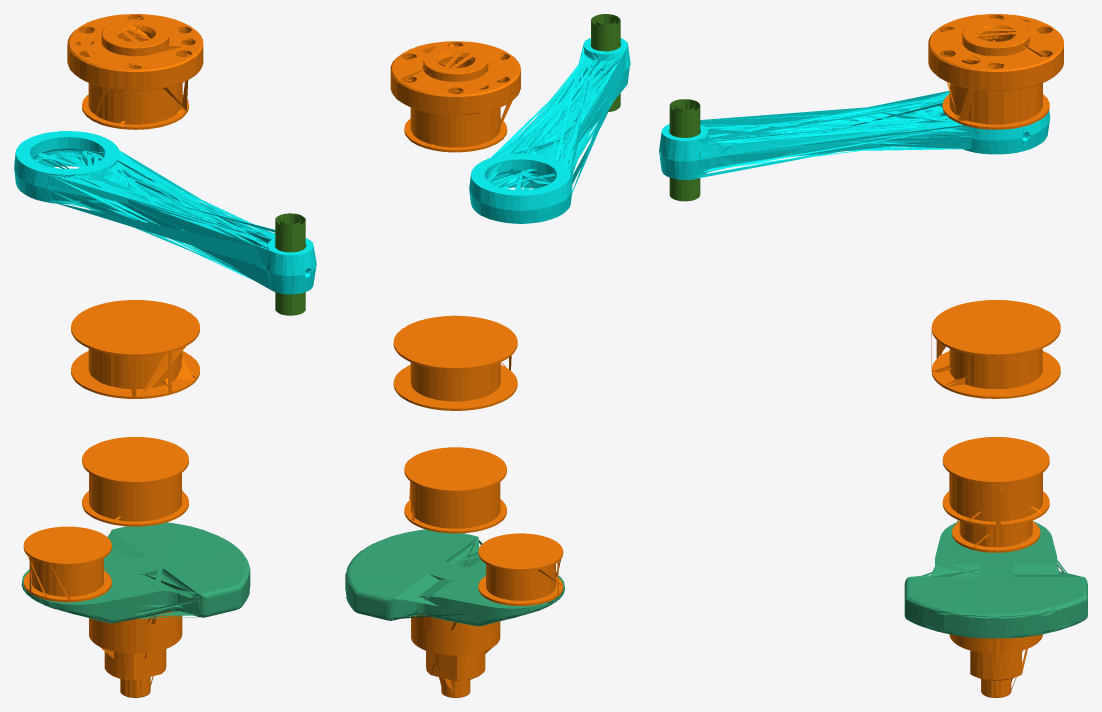
Rendered from sample_jt_2.obj.
The picture shows the model from 3 angles, left to right: view 1: azimuth 30°, elevation 25°; view 2: azimuth 150°, elevation 25°; view 3: azimuth 270°, elevation 25°; orthographic projection. The views are drawn at different scales.
Parts seen in each view (by area): view 1: conn_rod_new, lever, end_2, cyl_3, cyl_2, cyl_1, end_1, rod-axis; view 2: conn_rod_new, lever, end_2, cyl_3, cyl_2, cyl_1, end_1, rod-axis; view 3: conn_rod_new, lever, end_2, cyl_3, cyl_2, end_1, cyl_1, rod-axis.
Boxes of the visible parts, x1,y1,x2,y2 form: conn_rod_new: [14, 131, 316, 294]; lever: [21, 522, 250, 623]; end_2: [67, 14, 203, 129]; cyl_3: [71, 300, 199, 398]; cyl_2: [82, 437, 188, 526]; cyl_1: [23, 526, 111, 602]; end_1: [89, 611, 182, 697]; rod-axis: [275, 213, 305, 315]; conn_rod_new: [469, 38, 630, 223]; lever: [345, 529, 564, 626]; end_2: [390, 41, 520, 152]; cyl_3: [393, 315, 517, 410]; cyl_2: [404, 447, 506, 533]; cyl_1: [478, 533, 563, 606]; end_1: [411, 615, 500, 697]; rod-axis: [591, 14, 620, 111]; conn_rod_new: [659, 91, 1050, 179]; lever: [904, 521, 1087, 638]; end_2: [928, 14, 1063, 129]; cyl_3: [931, 300, 1060, 398]; cyl_2: [942, 437, 1049, 526]; end_1: [949, 634, 1042, 697]; cyl_1: [952, 520, 1040, 552]; rod-axis: [669, 99, 700, 201].
Bounding box in the file's own units: 145 × 428 × 253.
